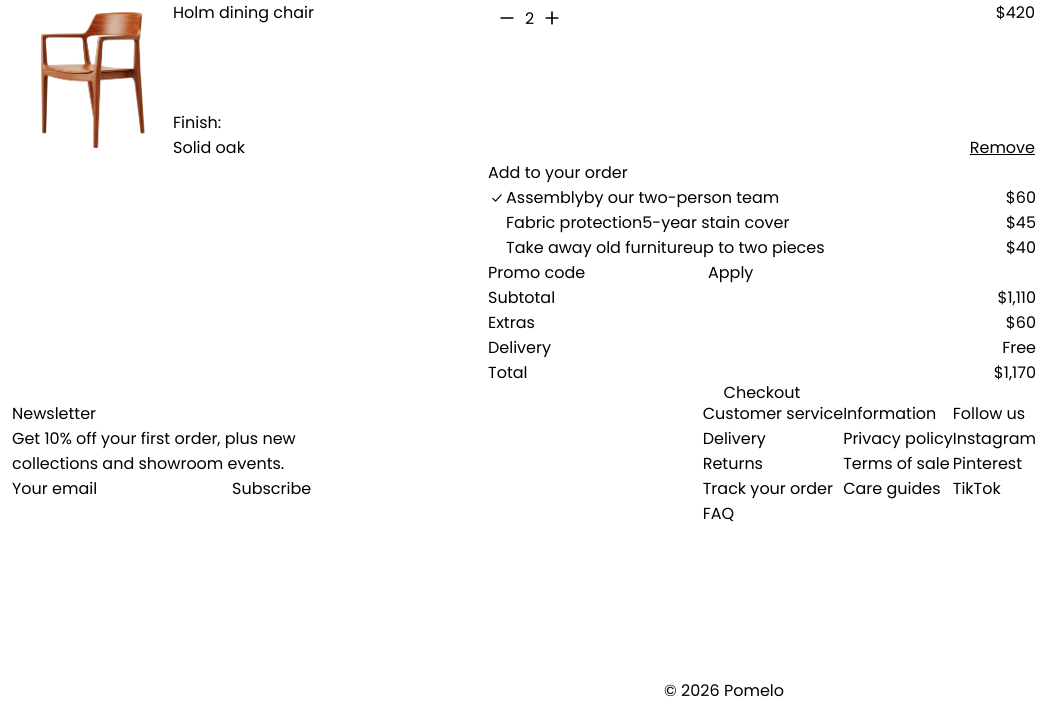
Test case: the published screens › explains rather than checks out
(page scrolled)
What coordinates should you click on to do the following:
click the button "Checkout"
I would click on:
 (762, 393)
Its box is [488,385,1036,401].
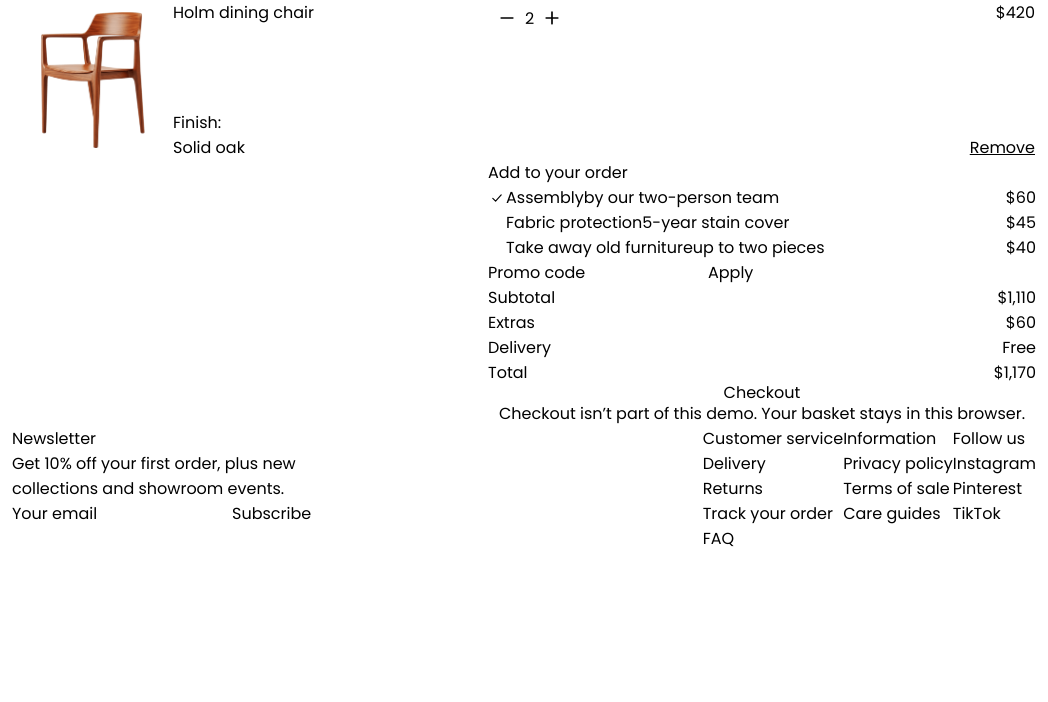
Expected: the text "isn’t part of this demo" is shown, [499,402,1025,425]
